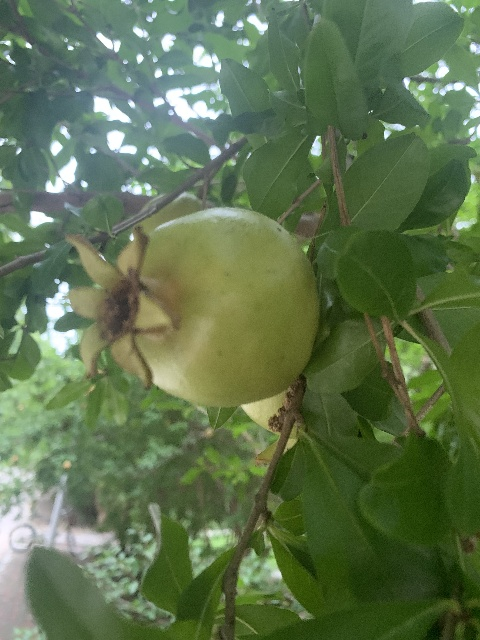mid-growth: (66, 206, 319, 406)
